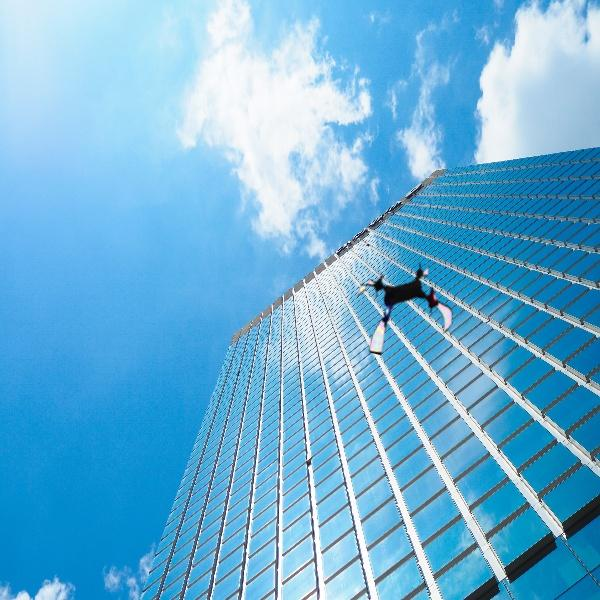drone: (354, 256, 459, 361)
